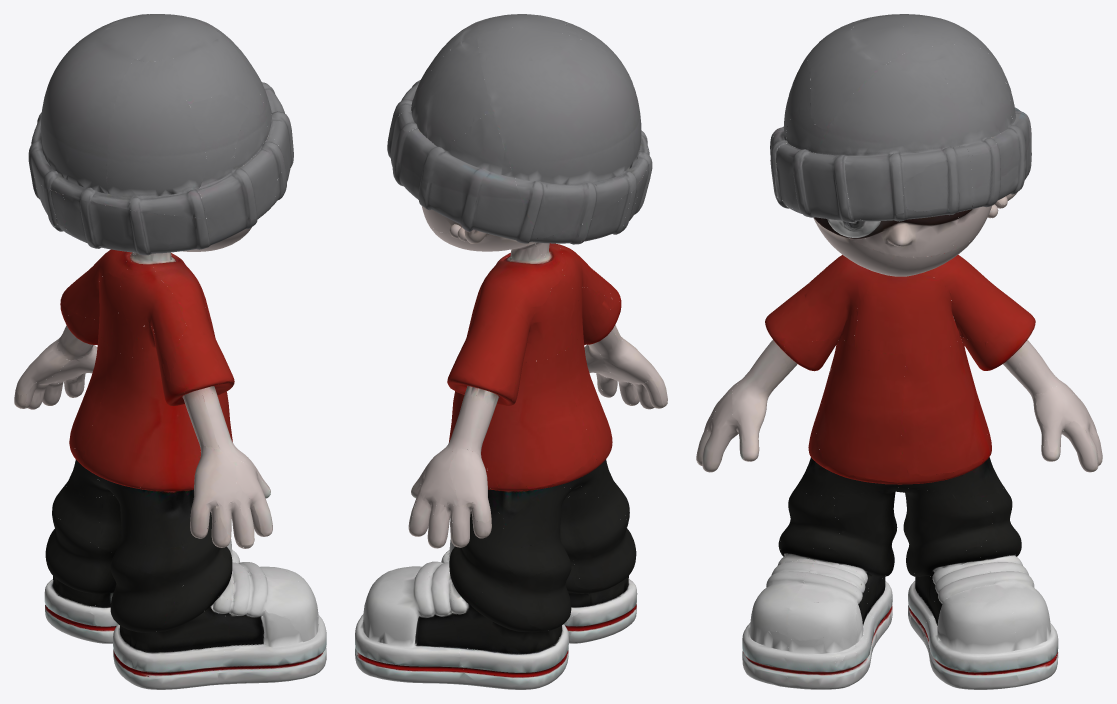
File: mesh-slim.glb
3 views of the same model, side by side, from view 1: azimuth 30°, elevation 25°; view 2: azimuth 150°, elevation 25°; view 3: azimuth 270°, elevation 25° (orthographic).
Parts seen in each view (by area): view 1: tripo_node_17e40980-f5d4-4541-b842-fed9639f793f; view 2: tripo_node_17e40980-f5d4-4541-b842-fed9639f793f; view 3: tripo_node_17e40980-f5d4-4541-b842-fed9639f793f.
Boxes of the visible parts, left/top/right/bottom form: tripo_node_17e40980-f5d4-4541-b842-fed9639f793f: left=14, top=14, right=326, bottom=689; tripo_node_17e40980-f5d4-4541-b842-fed9639f793f: left=355, top=14, right=667, bottom=689; tripo_node_17e40980-f5d4-4541-b842-fed9639f793f: left=696, top=14, right=1102, bottom=689.
Size of the model in its own units: 0.3882 by 0.9799 by 0.5902.
Materials: 1 (1 with a texture image).
